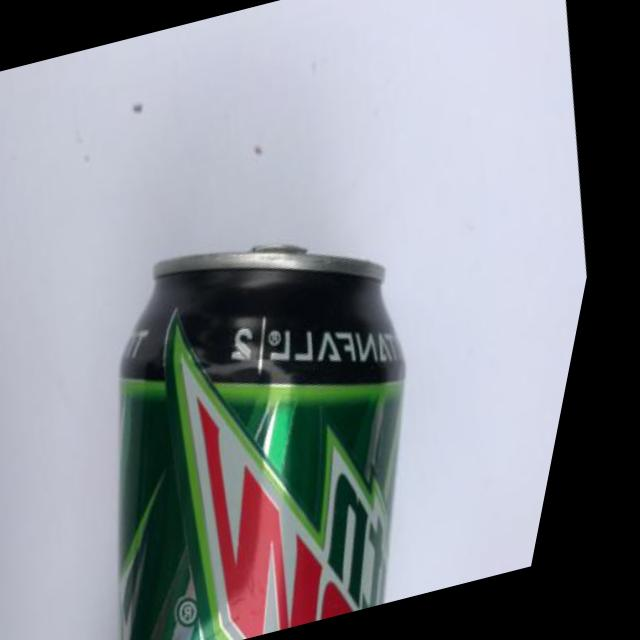metal: (0, 141, 543, 640)
